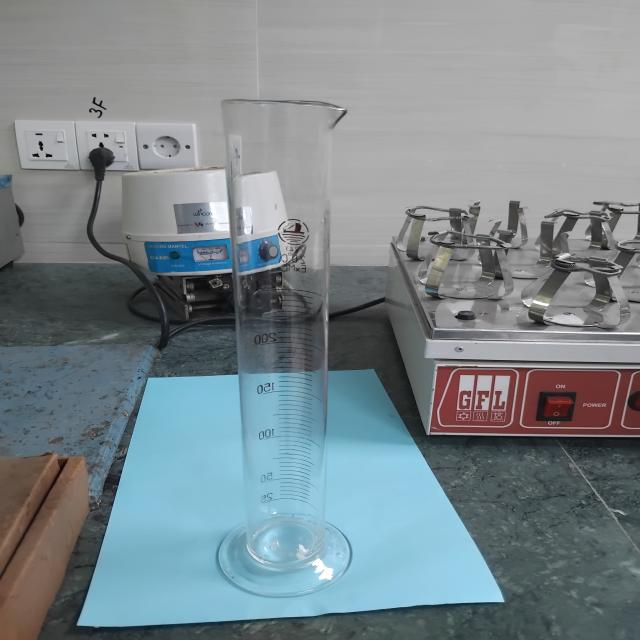Measuring_Cylinder: (167, 58, 410, 612)
